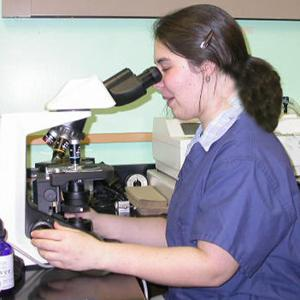person: (30, 6, 300, 300)
